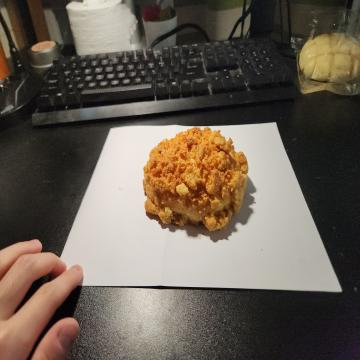soboru_bread: (142, 127, 251, 232)
